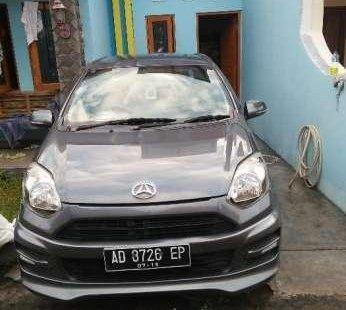clone-license-plate: (105, 245, 192, 270)
